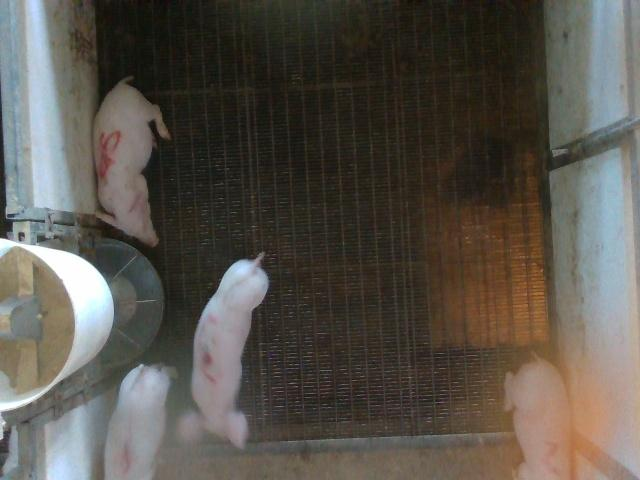pig-1: (105, 365, 174, 478)
pig-2: (505, 356, 570, 478)
pig-3: (178, 252, 269, 448)
pig-5: (94, 76, 170, 246)
